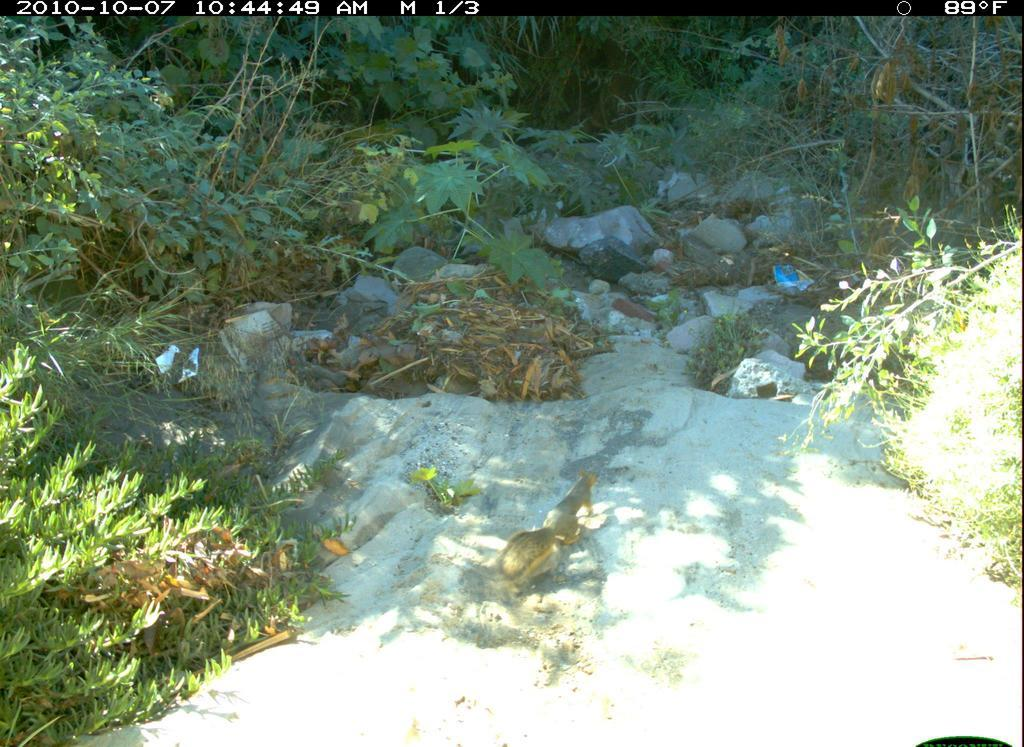squirrel: (488, 463, 607, 603)
